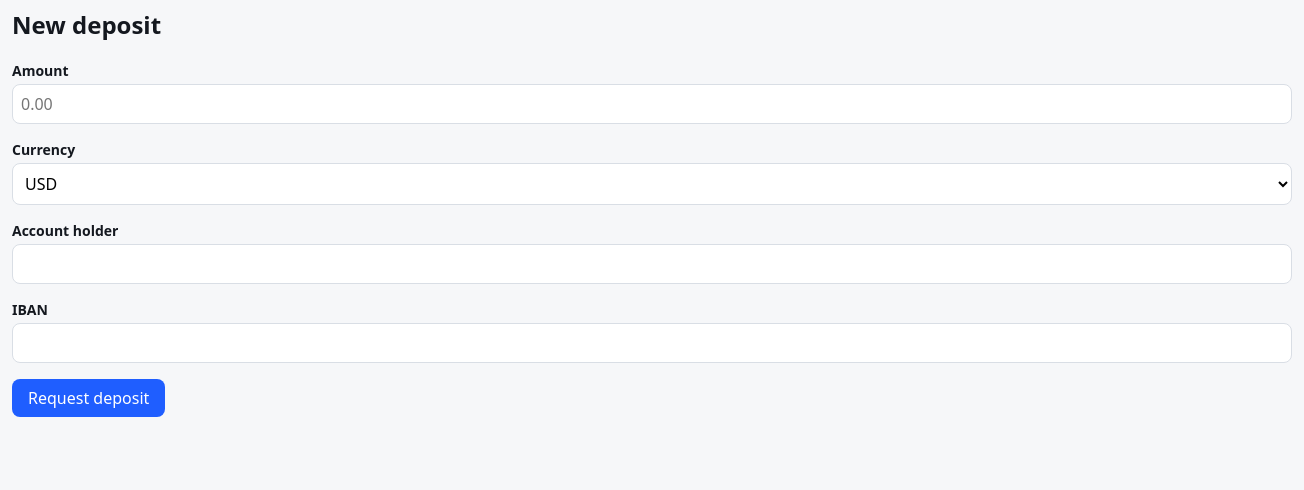
it: DepositForm (S1, S4) › surfaces an API error with code, message and correlation id, keeping the typed values
Type "10" into the field labelled "Amount" at (652, 104), box [12,84,1292,124]
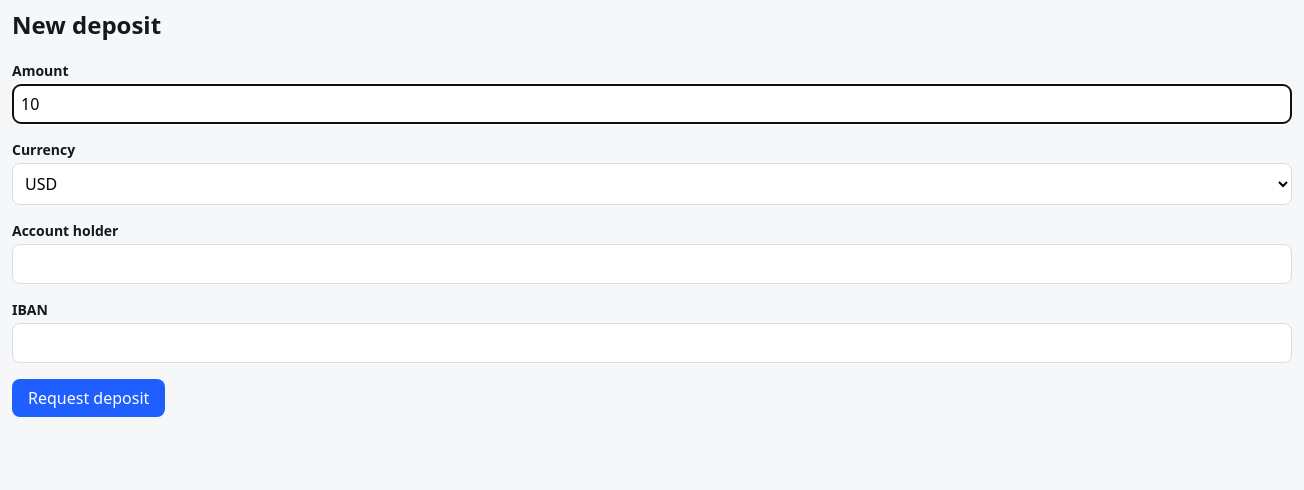
Type "Jane" into the field labelled "Account holder" at (652, 264), box [12,244,1292,284]
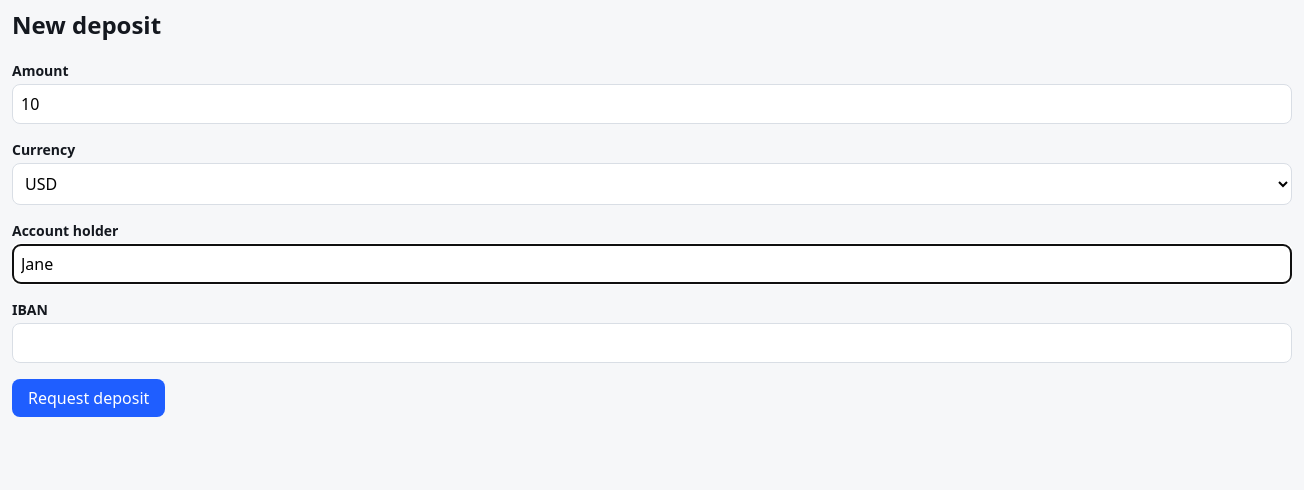
Type "GB82WEST12345698765432" into the field labelled "IBAN" at (652, 343), box [12,323,1292,363]
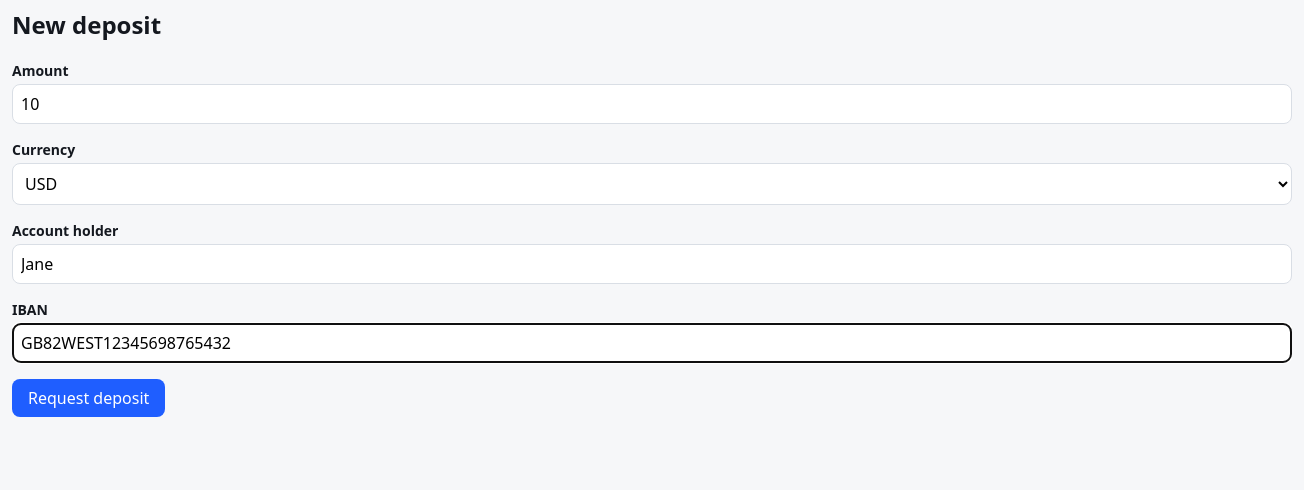
Click the button "Request deposit" at (89, 398), box [12,379,165,417]
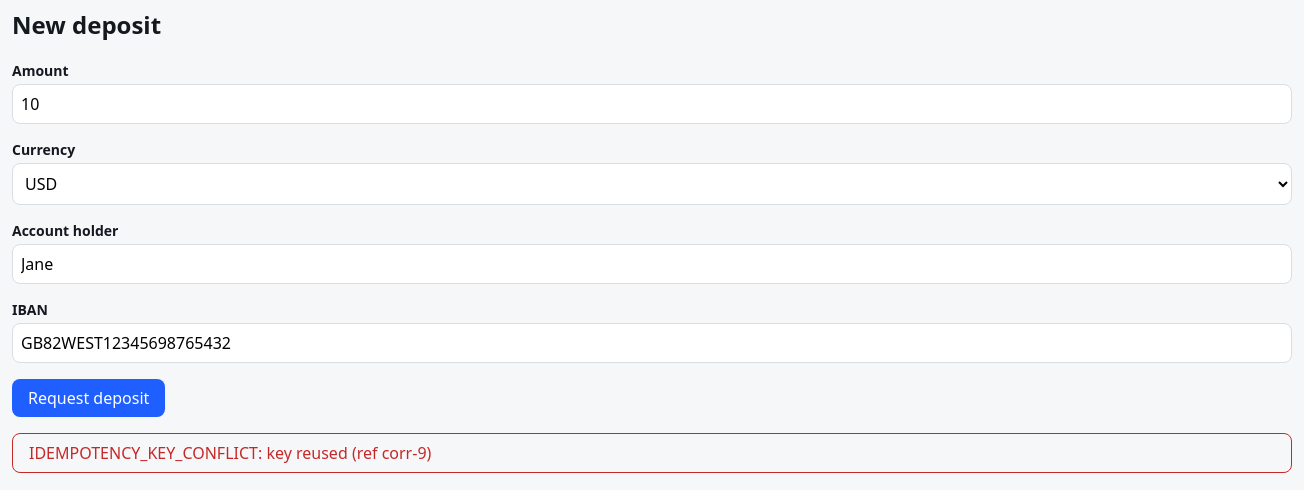
Check: the message reads "IDEMPOTENCY_KEY_CONFLICT: key reused (ref corr-9)", box [12,433,1292,473]
